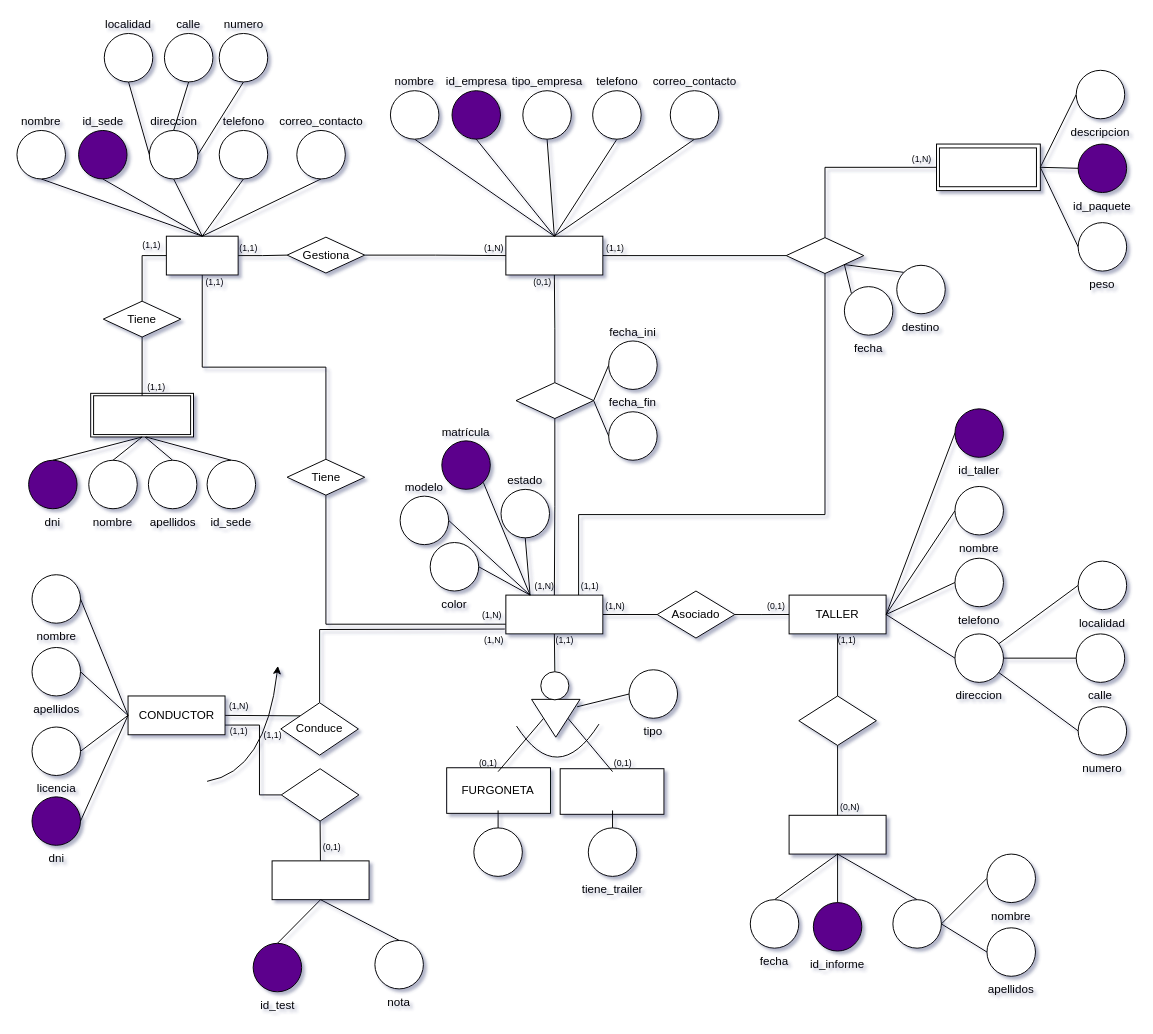
Image size: 1153x1034. Some labels were removed from this diagram. The box of each missing label's shape, as (x1, y1, x2, y2) in pixels:
CAMION: (564, 771, 661, 810)
Contrata: (515, 382, 594, 419)
EMPRESA: (505, 235, 603, 275)
ENCARGADO: (93, 395, 191, 435)
Envia: (785, 237, 864, 274)
Genera: (798, 695, 876, 745)
INFORME: (788, 814, 886, 854)
nombre_mecanico: (892, 899, 941, 948)
PAQUETE: (938, 147, 1036, 187)
Pasa: (280, 768, 359, 821)
porton_lateral: (473, 827, 522, 876)
SEDE: (165, 235, 238, 275)
TEST: (271, 860, 369, 900)
VEHICULO: (505, 594, 603, 634)
